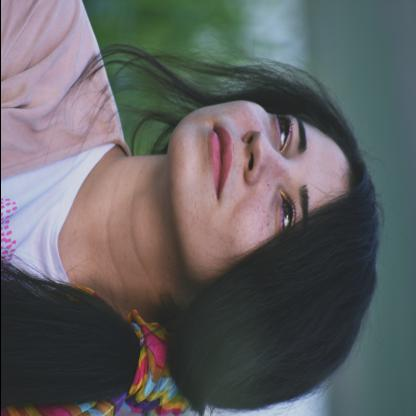Eye: (270, 104, 294, 160), (271, 187, 297, 238)
Mouth: (204, 115, 232, 209)
Nose: (240, 132, 274, 190)
